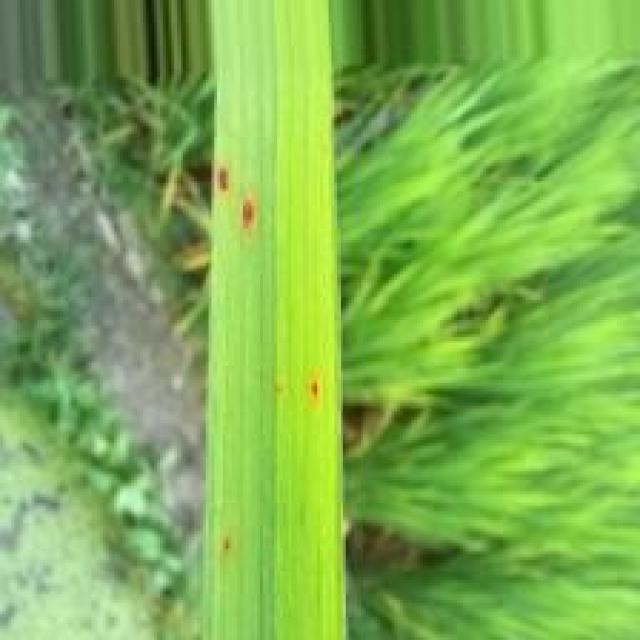Brown_Spot: (237, 192, 261, 239), (216, 162, 236, 201), (306, 368, 325, 406), (221, 529, 238, 558)
